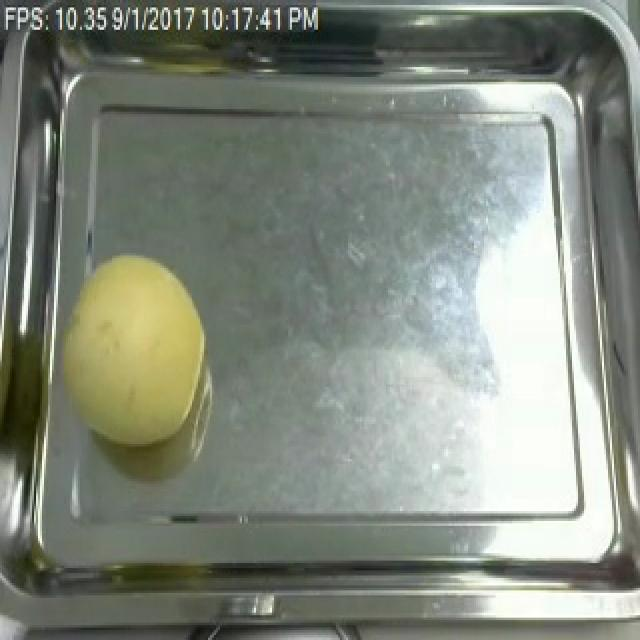Fruit: (38, 243, 216, 454)
